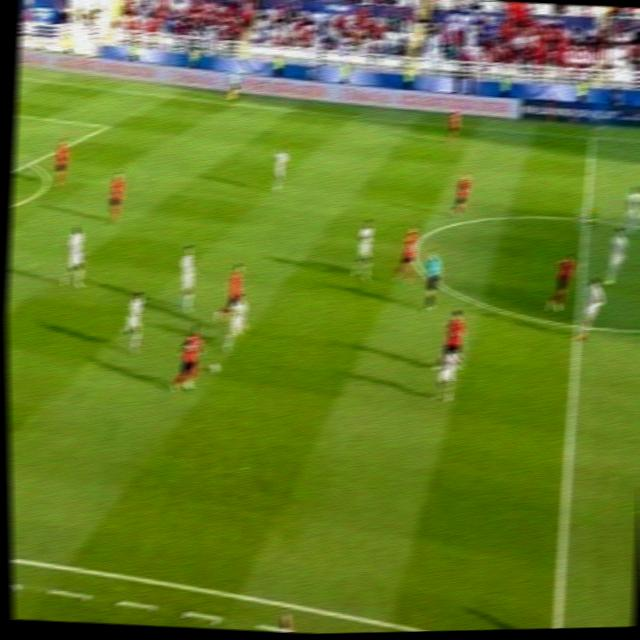bigarea_top_inner: (96, 116, 114, 134)
halfcircle_bottom: (564, 308, 591, 342)
halfcircle_top: (574, 206, 598, 230)
midline_top_intersection: (583, 126, 600, 145)
top_arc_area_intersection: (20, 151, 38, 170)
